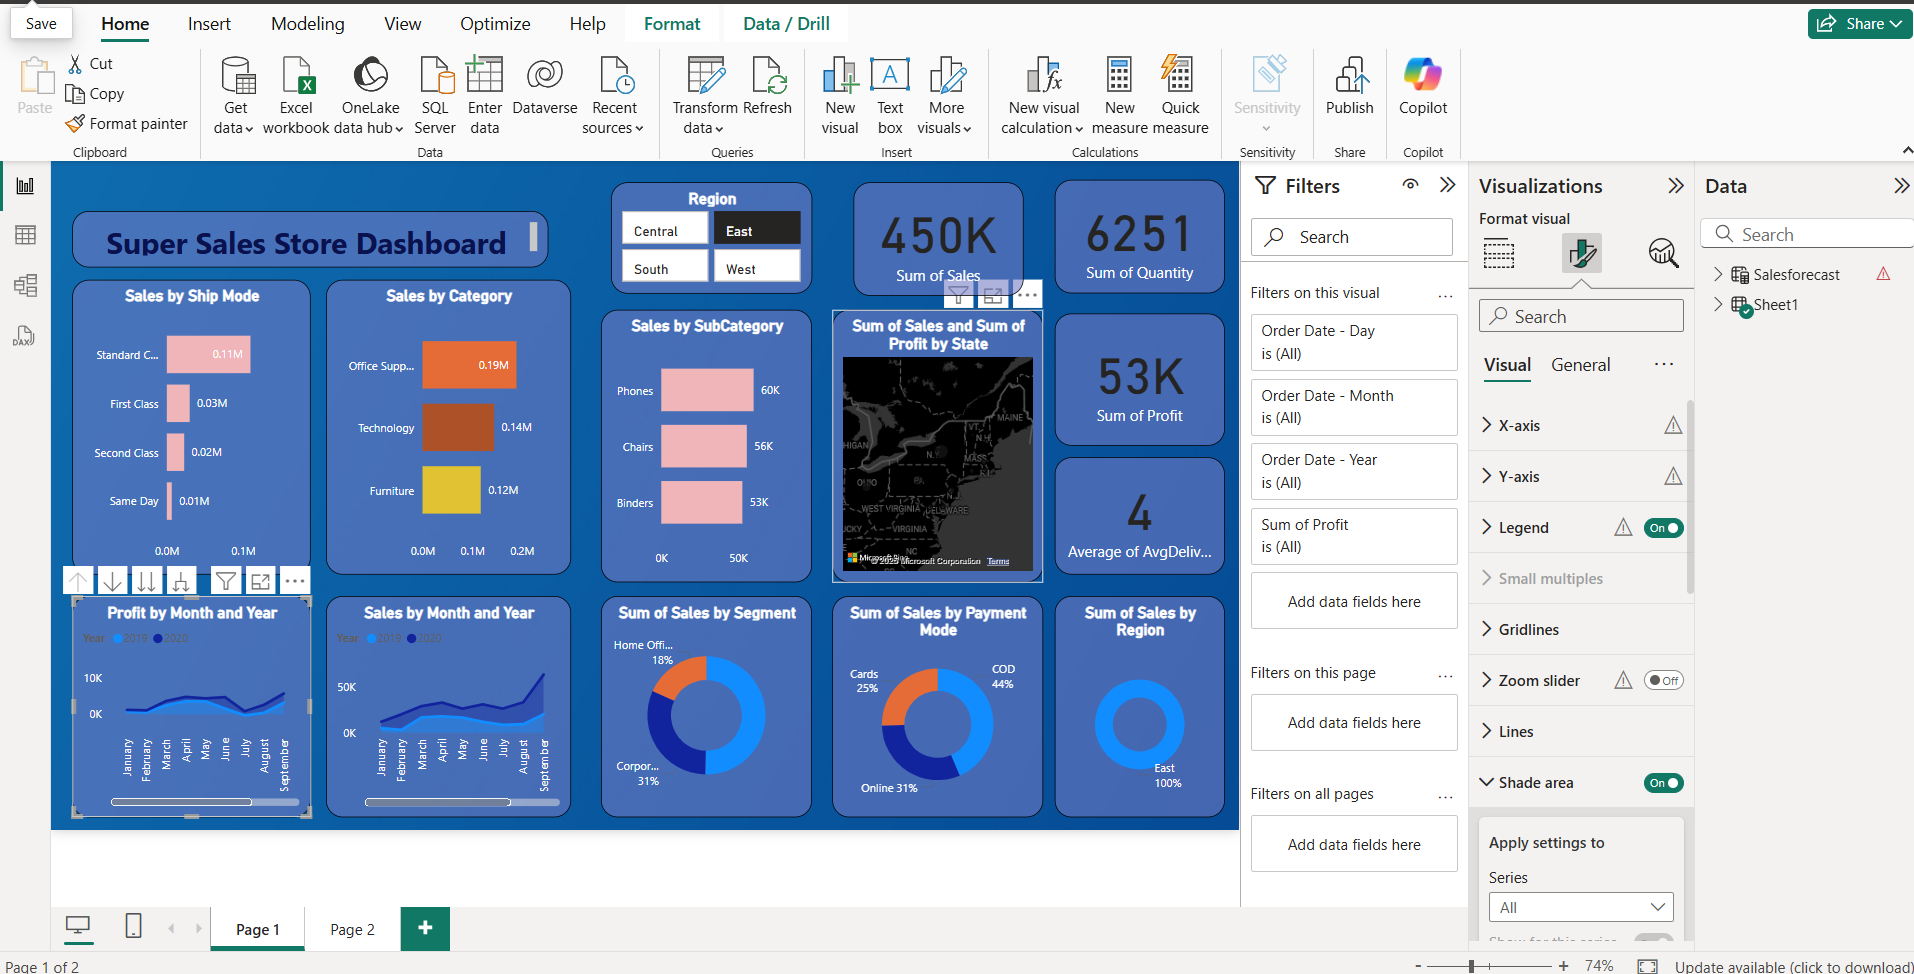

The page's visual inventory and layout, read from the dashboard file:
{"tool":"powerbi","page":{"name":"Page 1","canvas":[1280,720],"ordinal":0},"visuals":[{"type":"clusteredBarChart","title":"Sales by Category","fields":{"Category":["Sheet1.Category"],"Y":["Sum(Sheet1.Sales)"]},"box":[296.2,127.9,263.9,317.7],"z":0},{"type":"clusteredBarChart","title":"Sales by SubCategory","fields":{"Category":["Sheet1.Sub-Category"],"Y":["Sum(Sheet1.Sales)"]},"box":[592.3,160.2,227.5,293.5],"z":1000},{"type":"clusteredBarChart","title":"Sales by Ship Mode","fields":{"Category":["Sheet1.Ship Mode"],"Y":["Sum(Sheet1.Sales)"]},"box":[22.9,127.9,257.1,317.7],"z":2000},{"type":"stackedAreaChart","title":"Profit by Month and Year","fields":{"Category":["Sheet1.Order Date.Variation.Date Hierarchy.Month","Sheet1.Order Date.Variation.Date Hierarchy.Day"],"Series":["Sheet1.Order Date.Variation.Date Hierarchy.Year"],"Y":["Sum(Sheet1.Profit)"]},"box":[22.9,468.5,257.1,238.3],"z":3000},{"type":"stackedAreaChart","title":" Sales by Month and Year","fields":{"Y":["Sum(Sheet1.Sales)"],"Category":["Sheet1.Order Date.Variation.Date Hierarchy.Month","Sheet1.Order Date.Variation.Date Hierarchy.Day"],"Series":["Sheet1.Order Date.Variation.Date Hierarchy.Year"]},"box":[296.2,468.5,263.9,238.3],"z":4000},{"type":"map","fields":{"Category":["Sheet1.State"],"Size":["Sum(Sheet1.Sales)"]},"box":[841.4,160.2,227.5,293.5],"z":5000},{"type":"donutChart","fields":{"Category":["Sheet1.Segment"],"Y":["Sum(Sheet1.Sales)"]},"box":[592.3,468.5,227.5,238.3],"z":6000},{"type":"donutChart","fields":{"Category":["Sheet1.Payment Mode"],"Y":["Sum(Sheet1.Sales)"]},"box":[841.4,468.5,227.5,238.3],"z":7000},{"type":"donutChart","fields":{"Category":["Sheet1.Region"],"Y":["Sum(Sheet1.Sales)"]},"box":[1081,468.5,183.1,238.3],"z":8000},{"type":"advancedSlicerVisual","fields":{"Values":["Sheet1.Region"]},"box":[603.1,22.9,216.7,119.8],"z":9000},{"type":"textbox","box":[22.9,53.8,512.9,60.6],"z":10000},{"type":"card","fields":{"Values":["Sum(Sheet1.Sales)"]},"box":[864.3,22.9,183.1,122.5],"z":11000},{"type":"card","fields":{"Values":["Sum(Sheet1.Quantity)"]},"box":[1081,20.2,183.1,122.5],"z":12000},{"type":"card","fields":{"Values":["Sum(Sheet1.Profit)"]},"box":[1081,164.2,183.1,142.7],"z":13000},{"type":"card","fields":{"Values":["Avg(Sheet1.AvgDelivery)"]},"box":[1081,319.1,183.1,126.5],"z":14000}]}

Visuals, with their boxes on the page's 1280x720 design canvas (x1, y1, x2, y2). These are canvas units, not pixel positions in the 1914x974 screenshot, which may show the page scaled, cropped or inside an application window:
"Sales by Category" clusteredBarChart: detection(296, 128, 560, 446)
"Sales by SubCategory" clusteredBarChart: detection(592, 160, 820, 454)
"Sales by Ship Mode" clusteredBarChart: detection(23, 128, 280, 446)
"Profit by Month and Year" stackedAreaChart: detection(23, 468, 280, 707)
" Sales by Month and Year" stackedAreaChart: detection(296, 468, 560, 707)
map - Sheet1.State x Sum(Sheet1.Sales): detection(841, 160, 1069, 454)
donutChart - Sheet1.Segment x Sum(Sheet1.Sales): detection(592, 468, 820, 707)
donutChart - Sheet1.Payment Mode x Sum(Sheet1.Sales): detection(841, 468, 1069, 707)
donutChart - Sheet1.Region x Sum(Sheet1.Sales): detection(1081, 468, 1264, 707)
advancedSlicerVisual - Sheet1.Region: detection(603, 23, 820, 143)
textbox: detection(23, 54, 536, 114)
card - Sum(Sheet1.Sales): detection(864, 23, 1047, 145)
card - Sum(Sheet1.Quantity): detection(1081, 20, 1264, 143)
card - Sum(Sheet1.Profit): detection(1081, 164, 1264, 307)
card - Avg(Sheet1.AvgDelivery): detection(1081, 319, 1264, 446)
